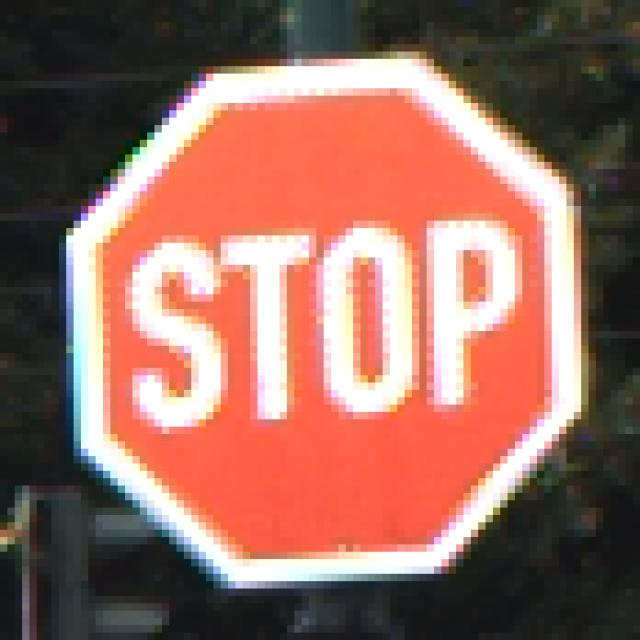STOP: (60, 53, 589, 590)
